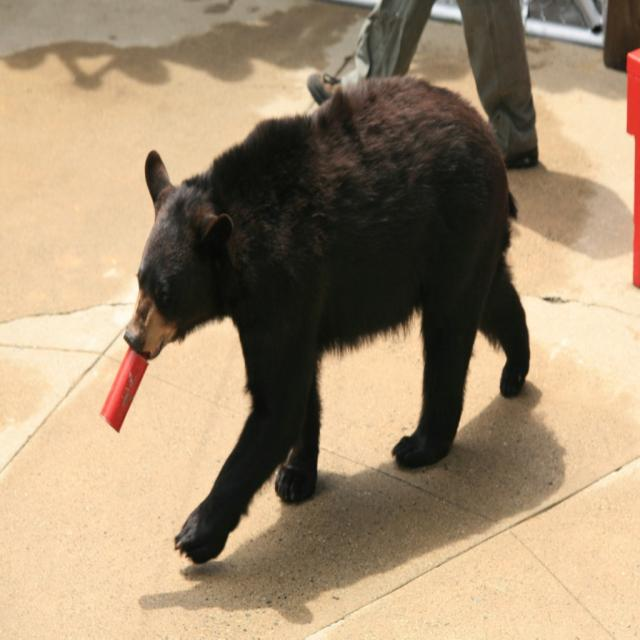Buffalo: (120, 77, 530, 568)
